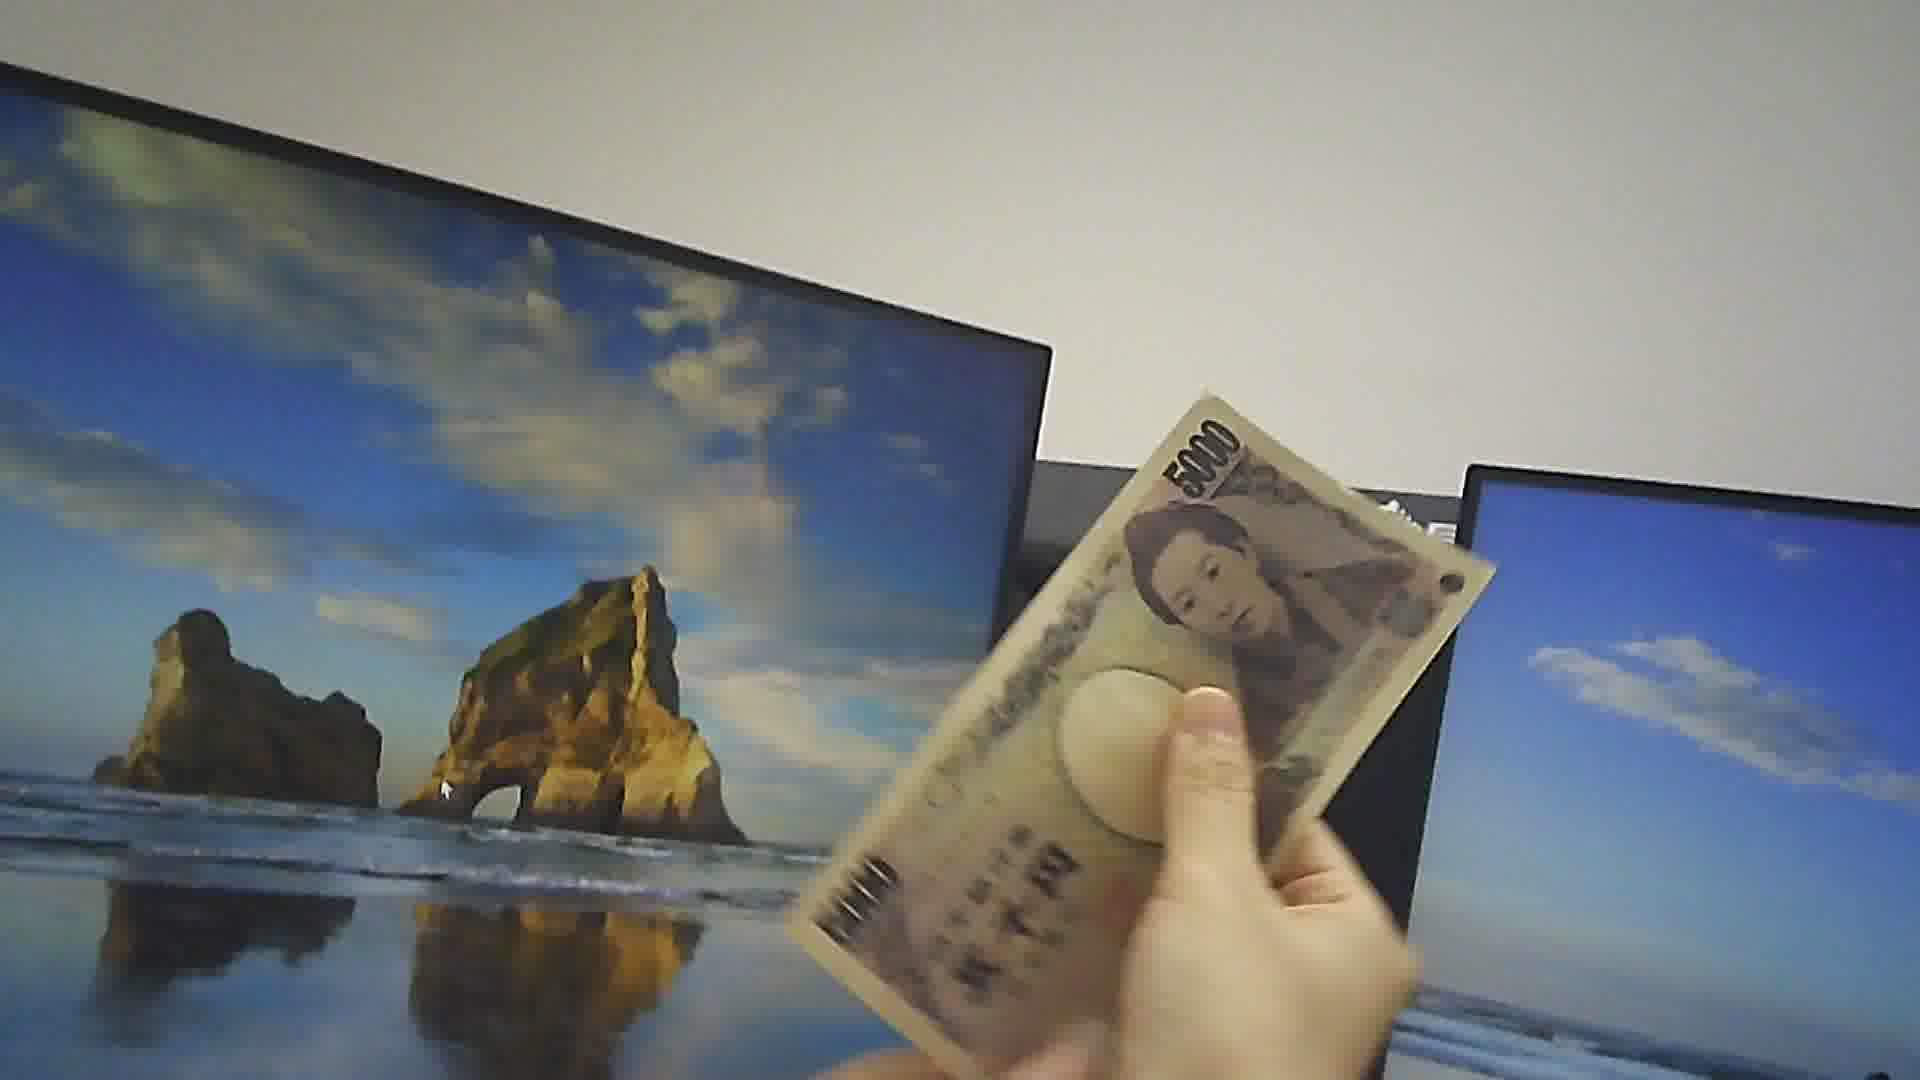5,000 Yen: (800, 372, 1466, 1079)
